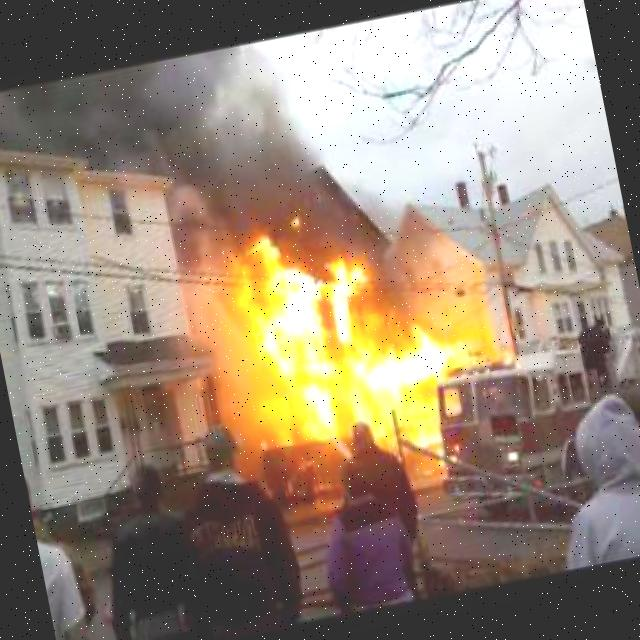fire: (241, 218, 441, 442), (173, 240, 267, 387), (422, 315, 482, 364)
